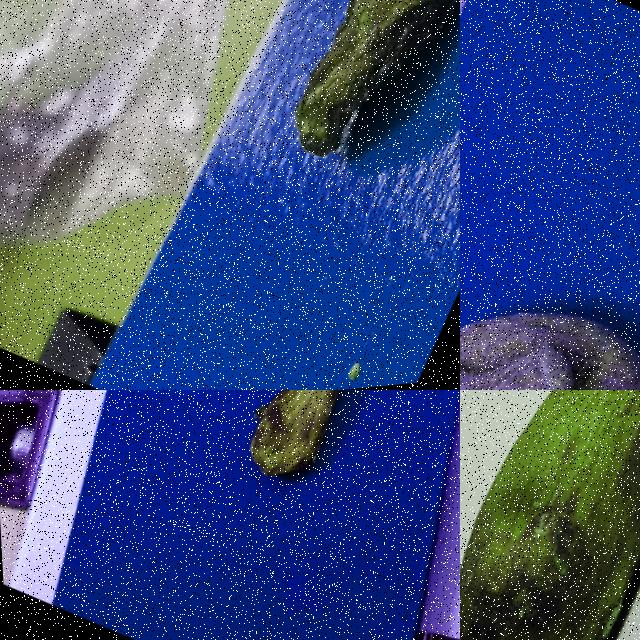Agglomerated_cocoabeans: (460, 149, 639, 389)
Fine_cocoabeans: (460, 390, 639, 639)
Flat_cocoabeans: (192, 0, 459, 289), (175, 390, 447, 564)
